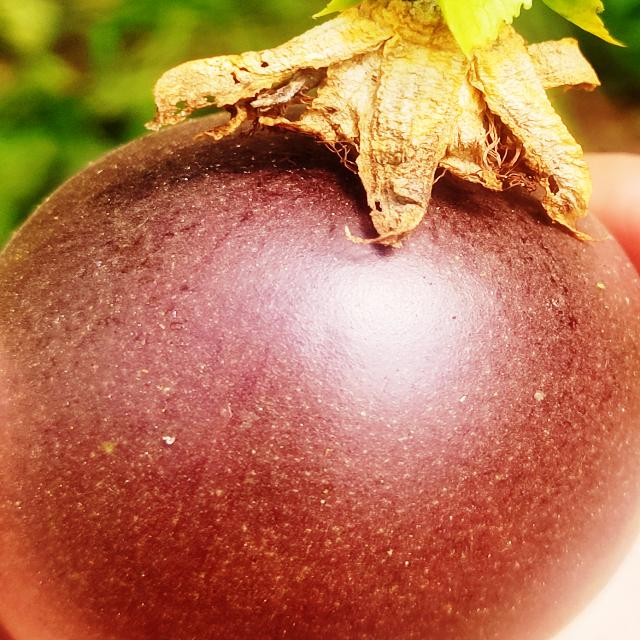Estado-6: (0, 0, 640, 640)
